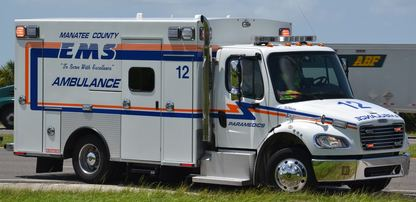ambulance: (15, 7, 410, 195)
